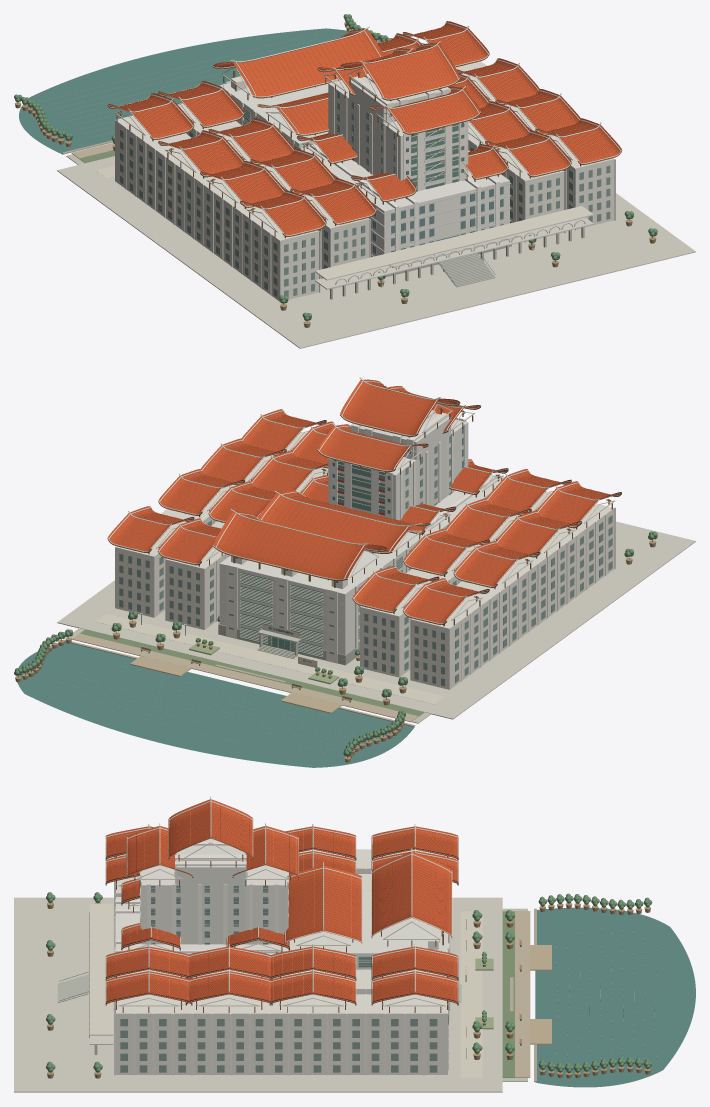
The model's file is 嘉庚建筑意象.glb.
3 renders of one model, top to bottom at view 1: azimuth 30°, elevation 25°; view 2: azimuth 150°, elevation 25°; view 3: azimuth 270°, elevation 25°, orthographic.
Visible parts, largest first — view 1: orange_curved_roof_tiles (×21), campus_plaza, white_teaching_block (×4), library_front_lake_water, five_floor_library_body, portico_upper_edge, stepped_roof_white_support (×2), tower_core, portico_gallery_floor, library_five_floor_body, facade_vertical_piers; view 2: orange_curved_roof_tiles (×22), library_front_lake_water, white_teaching_block (×4), campus_plaza, library_five_floor_body, library_walkway, shore_walk, stepped_roof_white_support (×2), tower_core, rear_white_pier (×3), lakeside_green_strip, waterfront_viewing_platform (×2) (+1 smaller); view 3: orange_curved_roof_tiles (×32), campus_plaza, library_front_lake_water, white_teaching_block (×3), tower_core, stepped_roof_white_support (×2), library_five_floor_body, library_walkway, portico_upper_edge, shore_walk, lakeside_green_strip, five_floor_library_body (+1 smaller).
Boxes of the visible parts, box(x1,y1,x2,y2) form: orange_curved_roof_tiles (×21): box(132, 28, 621, 235); campus_plaza: box(57, 156, 695, 348); white_teaching_block (×4): box(115, 61, 614, 301); library_front_lake_water: box(19, 28, 380, 154); five_floor_library_body: box(301, 145, 509, 257); portico_upper_edge: box(315, 206, 593, 280); stepped_roof_white_support (×2): box(328, 80, 468, 189); tower_core: box(349, 77, 450, 174); portico_gallery_floor: box(315, 217, 593, 289); library_five_floor_body: box(219, 83, 328, 148); facade_vertical_piers: box(310, 143, 399, 251); orange_curved_roof_tiles (×22): box(108, 380, 597, 623); library_front_lake_water: box(16, 642, 414, 767); white_teaching_block (×4): box(115, 431, 614, 689); campus_plaza: box(57, 521, 695, 719); library_five_floor_body: box(219, 532, 423, 654); library_walkway: box(96, 614, 445, 704); shore_walk: box(72, 633, 418, 722); stepped_roof_white_support (×2): box(328, 419, 468, 520); tower_core: box(349, 413, 451, 506); rear_white_pier (×3): box(226, 564, 338, 663); lakeside_green_strip: box(80, 629, 424, 716); waterfront_viewing_platform (×2): box(130, 656, 341, 713); orange_curved_roof_tiles (×32): box(106, 799, 457, 1003); campus_plaza: box(14, 897, 502, 1092); library_front_lake_water: box(535, 907, 695, 1087); white_teaching_block (×3): box(116, 849, 447, 1074); tower_core: box(176, 839, 245, 944); stepped_roof_white_support (×2): box(141, 865, 287, 944); library_five_floor_body: box(287, 891, 447, 969); library_walkway: box(460, 911, 482, 1077); portico_upper_edge: box(89, 903, 113, 1035); shore_walk: box(515, 911, 530, 1077); lakeside_green_strip: box(502, 911, 514, 1077); five_floor_library_body: box(116, 897, 287, 954).
Bounding box in the file's own units: 126 × 54.57 × 187.
Materials: 90 (2 with a texture image).
